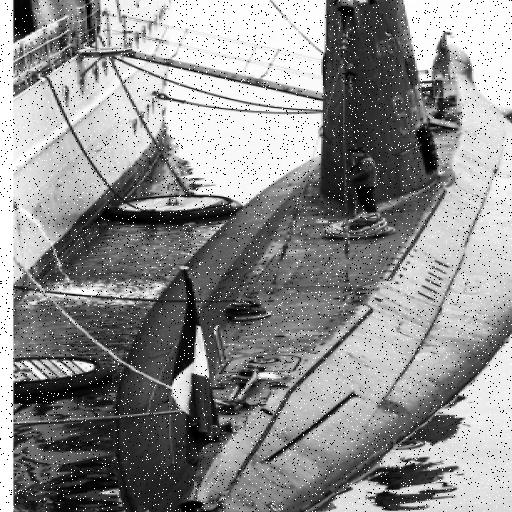submarine: (113, 1, 512, 512)
